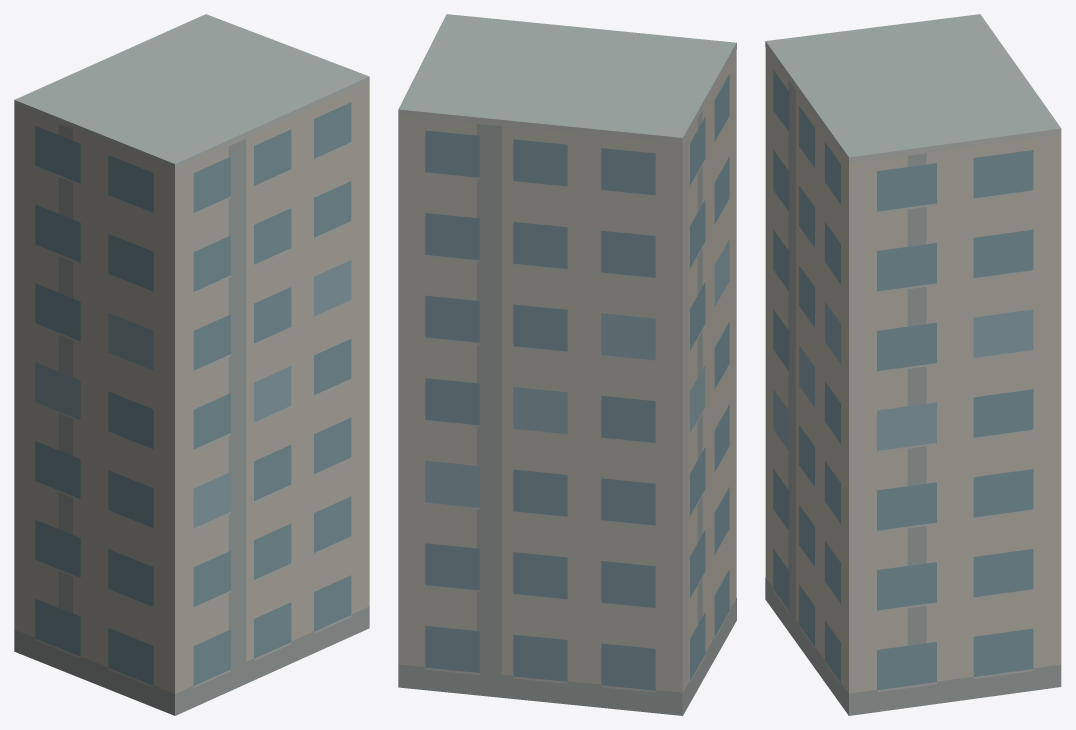
Rendered from survey-upis-32568383.glb.
3 views of the same model, side by side, from view 1: azimuth 30°, elevation 25°; view 2: azimuth 150°, elevation 25°; view 3: azimuth 270°, elevation 25° (orthographic). The views are drawn at different scales.
Parts seen in each view (by area): view 1: survey-upis-32568383.tmp; view 2: survey-upis-32568383.tmp; view 3: survey-upis-32568383.tmp.
Part boxes in pixels (<box>): survey-upis-32568383.tmp: <box>14,14,369,715</box>; survey-upis-32568383.tmp: <box>398,14,736,715</box>; survey-upis-32568383.tmp: <box>765,14,1061,715</box>.
Size of the model in its own units: 11.69 by 21.2 by 10.19.
